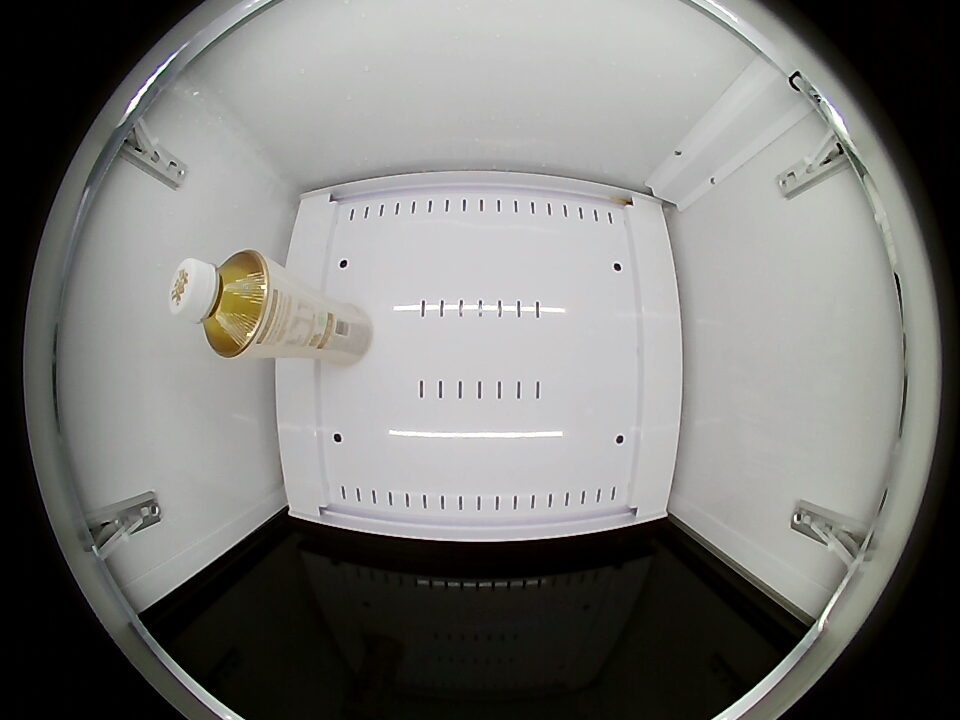rancha-2: (170, 250, 275, 357)
